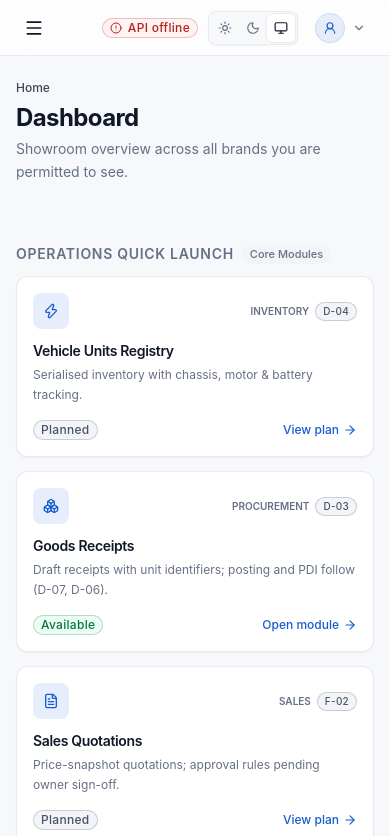
it: mobile navigation drawer › closes after navigating and moves focus to the new page
Click the button named "Open navigation" at (34, 28), box [16,10,52,46]
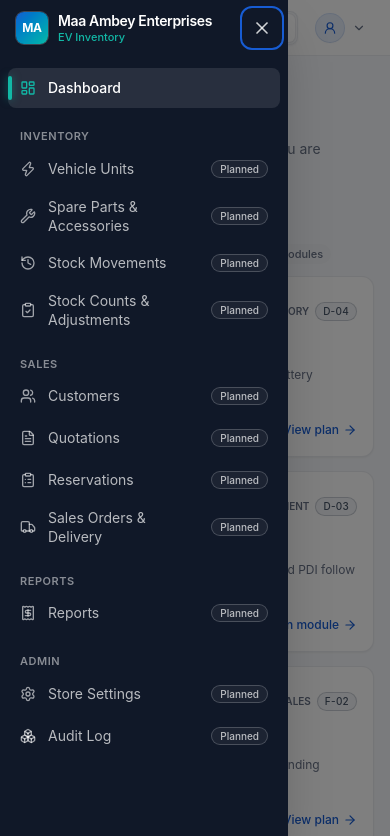
Click the link "Customers Planned" at (84, 396), box [8,376,280,416]
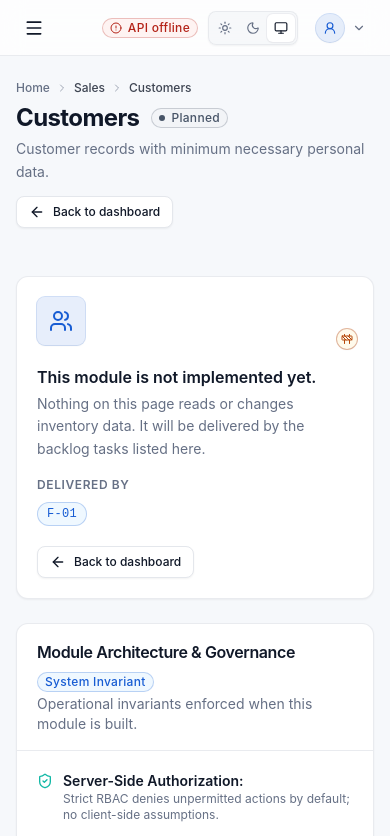
Expected: the dialog "Navigation" is not shown
Expected: the heading "Customers" is shown, [16,102,139,134]
